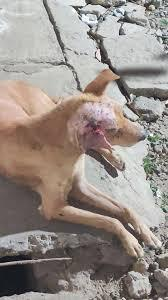infection: (62, 98, 135, 166)
